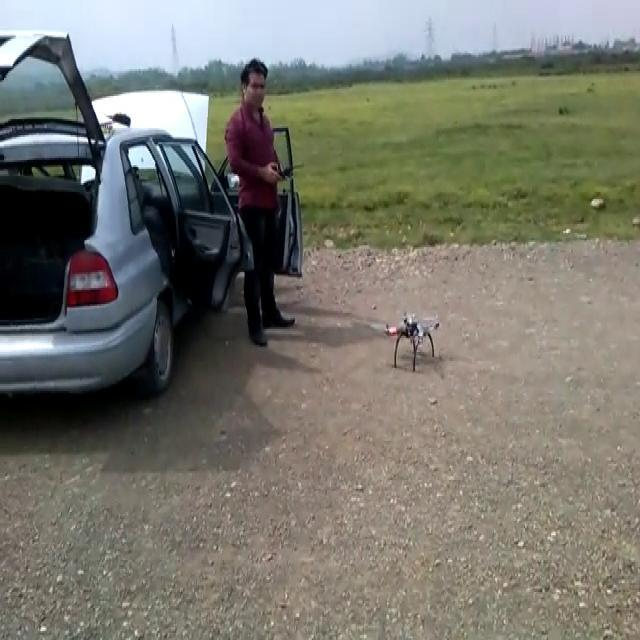drone: (380, 306, 442, 372)
